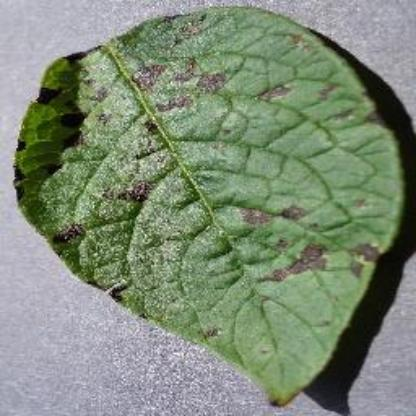Early-Blight: (15, 4, 408, 408)
